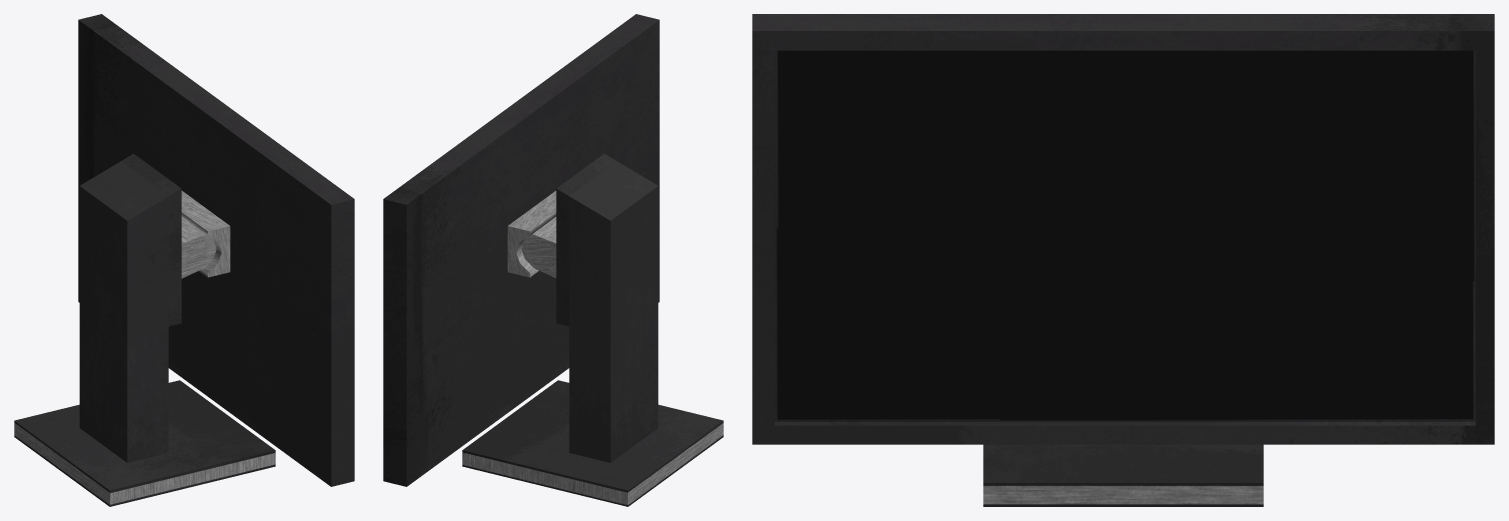
Rendered from monitor.glb.
3 views of the same model, side by side, from view 1: azimuth 30°, elevation 25°; view 2: azimuth 150°, elevation 25°; view 3: azimuth 270°, elevation 25° (orthographic). The views are drawn at different scales.
Visible parts, largest first — view 1: computerMonitor monitor_geo, stand_geo computerMonitor; view 2: computerMonitor monitor_geo, stand_geo computerMonitor; view 3: computerMonitor monitor_geo, stand_geo computerMonitor.
Boxes of the visible parts, x1,y1,x2,y2 form: computerMonitor monitor_geo: (78, 14, 354, 486); stand_geo computerMonitor: (14, 153, 275, 506); computerMonitor monitor_geo: (383, 14, 659, 486); stand_geo computerMonitor: (462, 153, 723, 506); computerMonitor monitor_geo: (752, 14, 1494, 444); stand_geo computerMonitor: (983, 444, 1263, 506).
Size of the model in its own units: 0.0143 by 0.0267 by 0.0376.
1 material, 1 textured.
